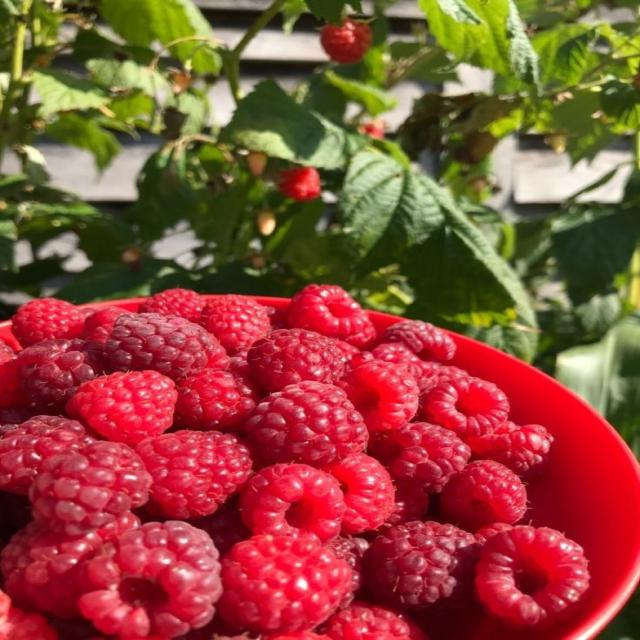raspberry: (79, 521, 221, 638), (219, 535, 352, 632), (476, 526, 589, 626), (30, 442, 151, 535), (246, 381, 368, 466), (136, 430, 252, 519), (0, 523, 106, 618), (365, 522, 477, 608), (240, 464, 346, 541), (104, 314, 228, 379), (67, 371, 177, 444), (0, 416, 93, 495), (371, 423, 471, 492), (17, 340, 103, 412), (441, 460, 526, 531), (248, 329, 344, 391), (339, 361, 419, 432), (287, 284, 375, 347), (325, 454, 394, 533), (422, 378, 509, 439), (425, 522, 481, 616), (175, 369, 259, 431), (467, 421, 553, 476), (200, 295, 270, 354), (354, 343, 437, 392), (323, 602, 426, 639), (190, 497, 252, 555), (12, 299, 85, 347), (384, 321, 455, 362), (327, 535, 369, 604), (0, 592, 58, 639), (417, 361, 469, 412), (380, 481, 428, 530), (321, 19, 372, 64), (138, 288, 205, 322), (81, 306, 128, 344), (0, 492, 32, 547), (278, 168, 320, 201), (50, 616, 106, 639), (0, 358, 26, 407), (334, 340, 360, 370), (476, 523, 513, 543), (0, 405, 34, 426), (229, 349, 251, 379), (267, 306, 291, 330), (262, 631, 330, 639), (360, 122, 384, 139), (0, 339, 15, 363)
